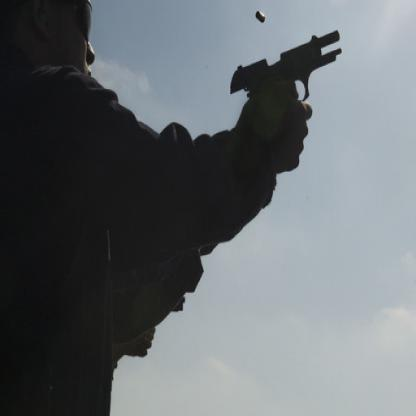gun: (226, 24, 342, 105)
